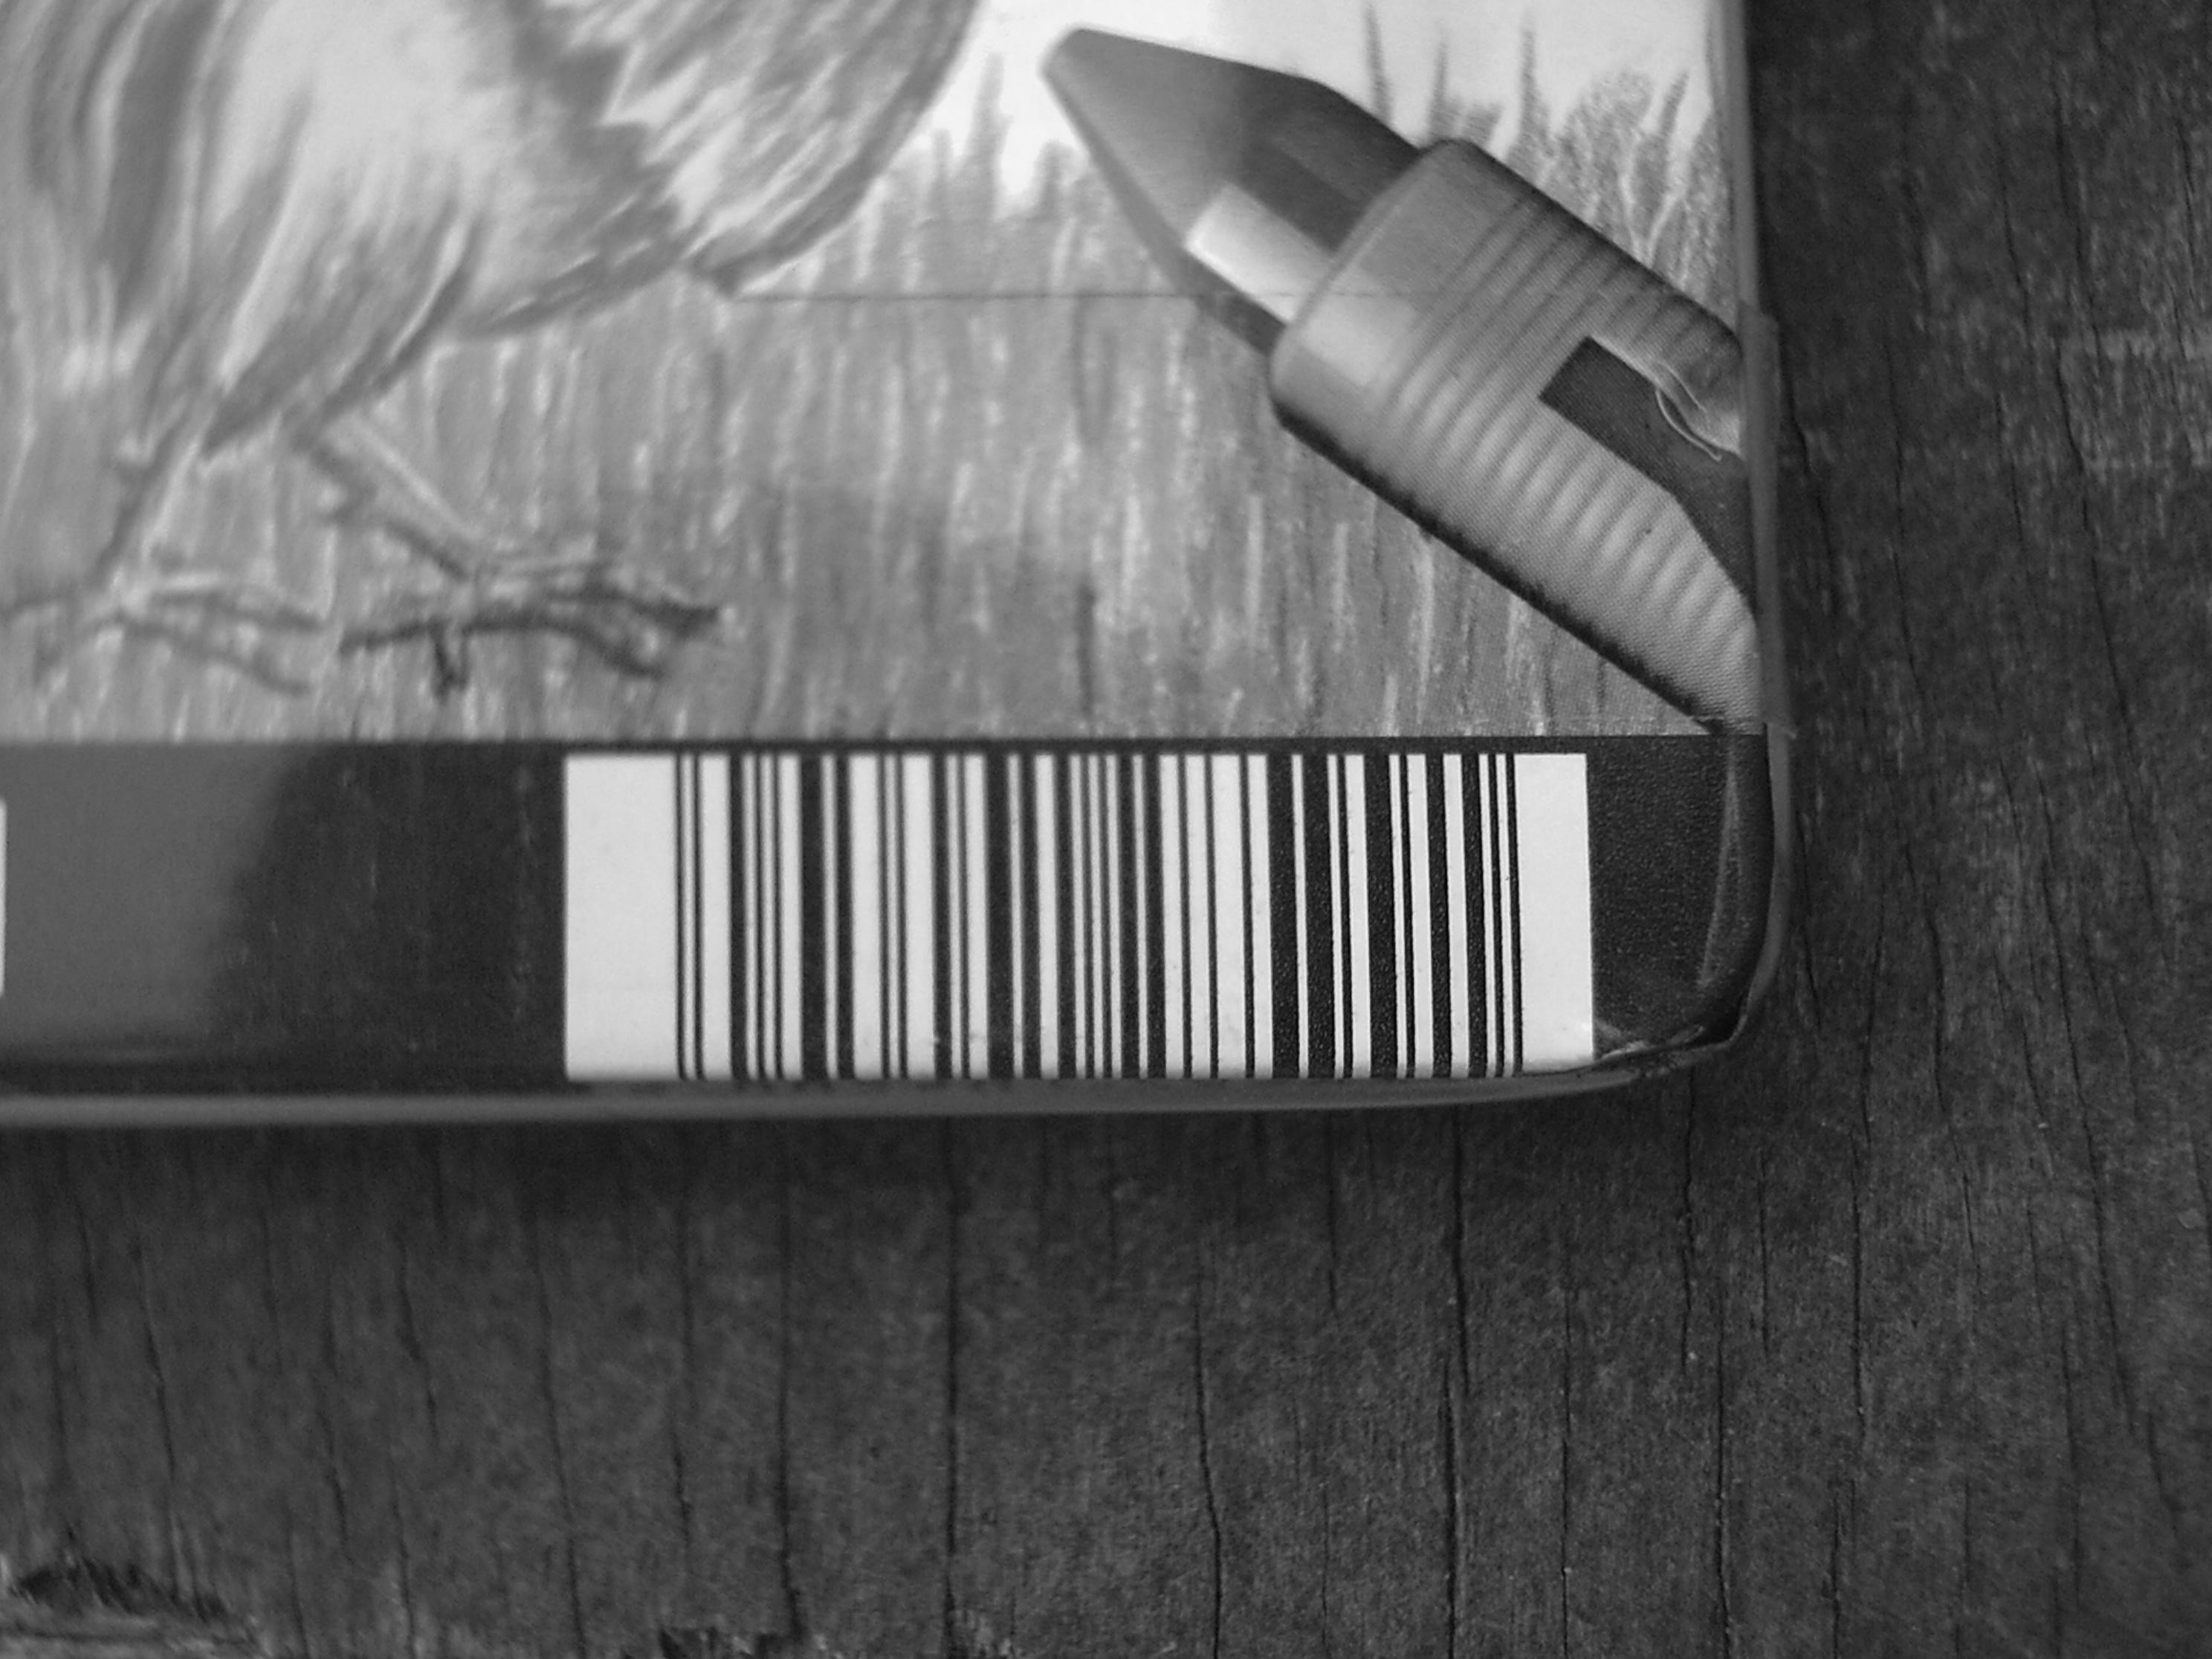Barcode: (583, 732, 1564, 1056)
